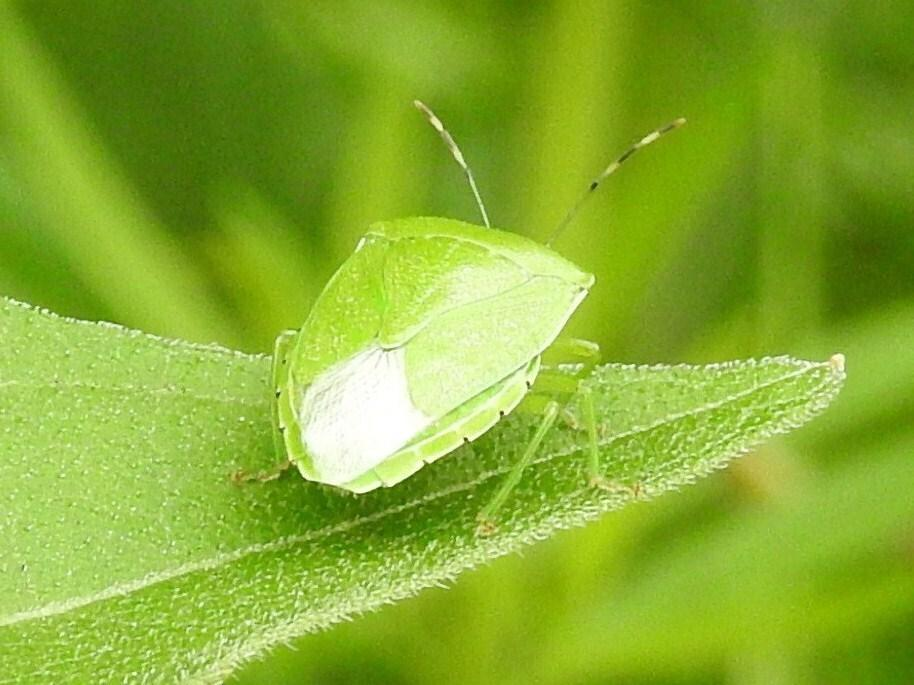stink_bugs: (183, 45, 741, 572)
